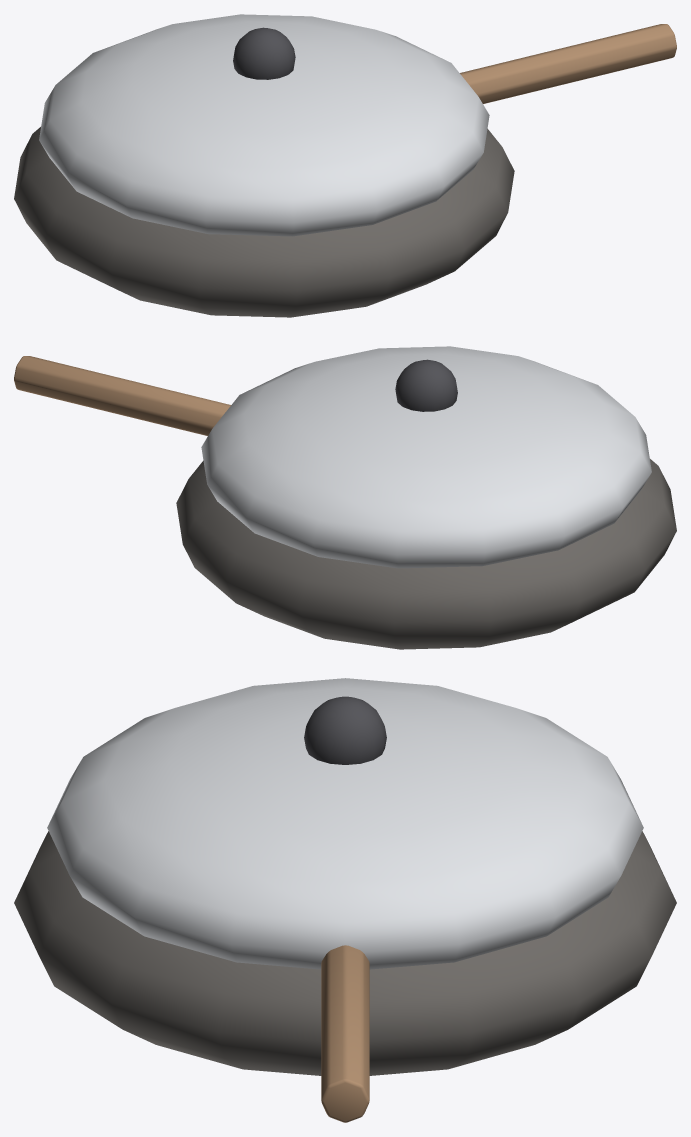
Rendered from v2_wok.fbx.
3 renders of one model, top to bottom at view 1: azimuth 30°, elevation 25°; view 2: azimuth 150°, elevation 25°; view 3: azimuth 270°, elevation 25°, orthographic. The views are drawn at different scales.
Visible parts, largest first — view 1: WokLid, WokBowl, WokHandle, LidKnob; view 2: WokLid, WokBowl, WokHandle, LidKnob; view 3: WokLid, WokBowl, WokHandle, LidKnob.
Boxes of the visible parts, box(x1,y1,x2,y2) form: WokLid: box(39, 14, 489, 236); WokBowl: box(14, 127, 514, 317); WokHandle: box(460, 24, 676, 103); LidKnob: box(233, 27, 295, 79); WokLid: box(201, 346, 651, 568); WokBowl: box(176, 459, 676, 649); WokHandle: box(14, 356, 230, 435); LidKnob: box(395, 359, 457, 411); WokLid: box(47, 678, 643, 969); WokBowl: box(14, 831, 676, 1075); WokHandle: box(321, 945, 369, 1122); LidKnob: box(304, 696, 386, 764).
Bounding box in the file's own units: 0.57 × 0.205 × 0.4.
